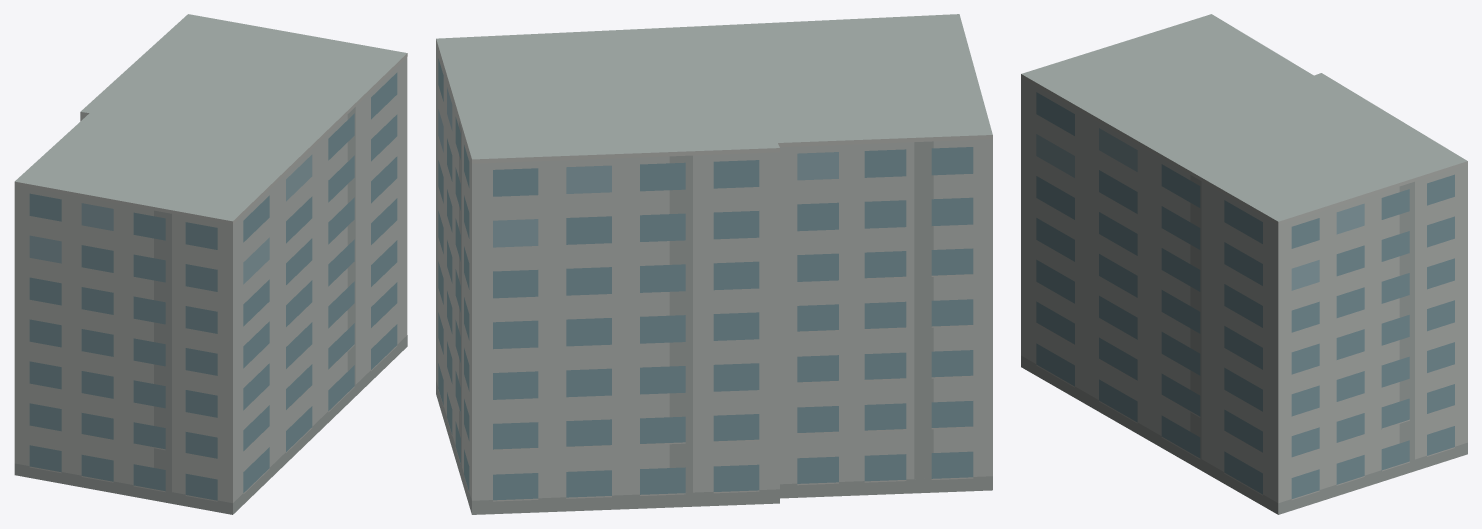
Rendered from survey-upis-32800790.glb.
3 renders of one model, left to right at view 1: azimuth 30°, elevation 25°; view 2: azimuth 150°, elevation 25°; view 3: azimuth 270°, elevation 25°, orthographic. The views are drawn at different scales.
Visible parts, largest first — view 1: survey-upis-32800790.tmp; view 2: survey-upis-32800790.tmp; view 3: survey-upis-32800790.tmp.
Boxes of the visible parts, box(x1,y1,x2,y2) form: survey-upis-32800790.tmp: box(14, 14, 407, 514); survey-upis-32800790.tmp: box(436, 14, 992, 514); survey-upis-32800790.tmp: box(1021, 14, 1467, 514).
Size of the model in its own units: 30.56 by 20.1 by 27.77.
